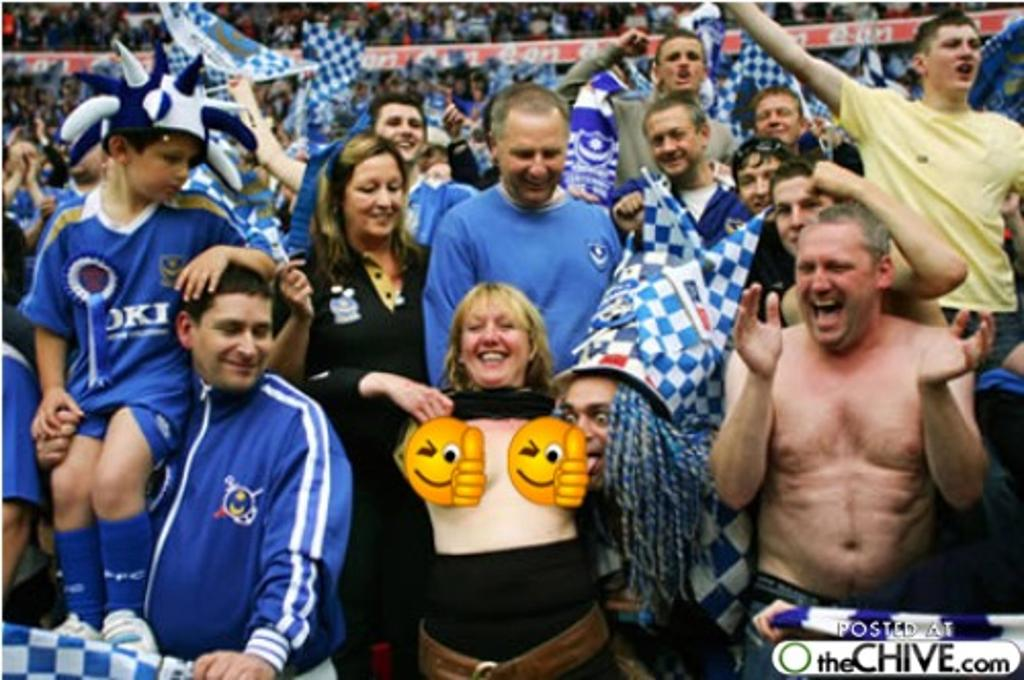face: (799, 240, 874, 344), (565, 382, 634, 488), (195, 304, 275, 385), (499, 128, 566, 199), (133, 125, 198, 198), (464, 309, 527, 383), (776, 186, 837, 256), (346, 167, 402, 234), (928, 30, 979, 89), (648, 118, 699, 174), (739, 164, 786, 214), (378, 110, 424, 160), (660, 42, 701, 89), (756, 101, 799, 142), (63, 134, 97, 174), (9, 150, 38, 181), (418, 145, 442, 172), (426, 168, 447, 194), (383, 81, 398, 93)
